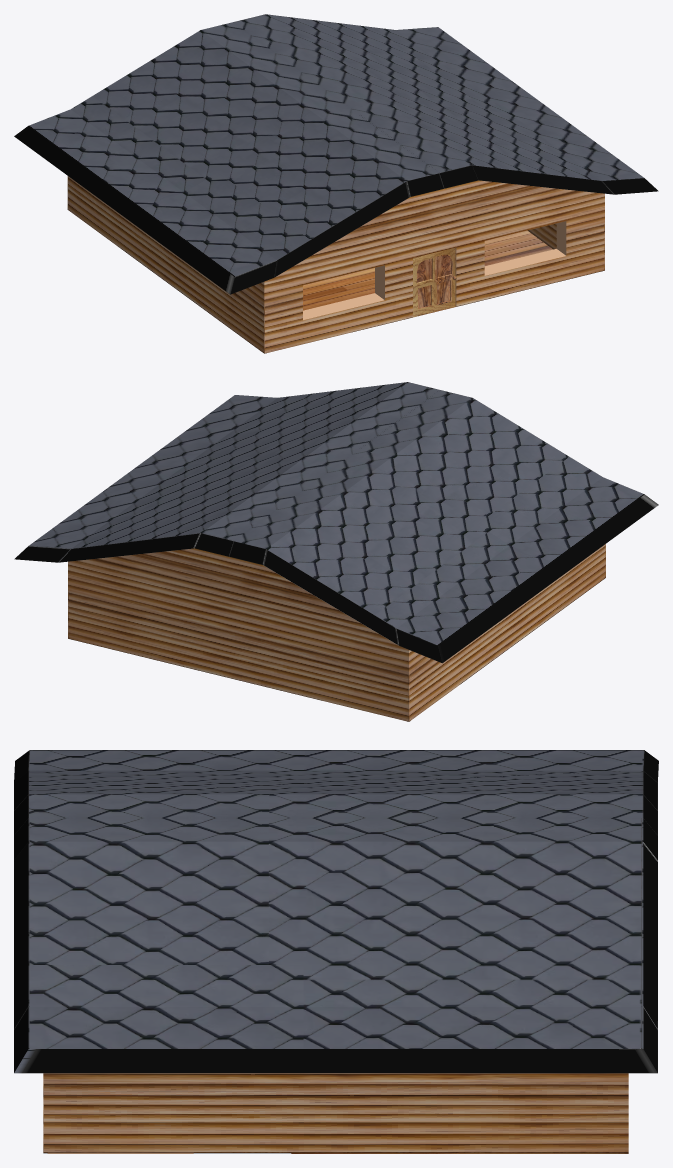
File: lodge.fbx
3 renders of one model, top to bottom at view 1: azimuth 30°, elevation 25°; view 2: azimuth 150°, elevation 25°; view 3: azimuth 270°, elevation 25°, orthographic. The views are drawn at different scales.
Parts seen in each view (by area): view 1: Lodge, Doorknob; view 2: Lodge; view 3: Lodge.
Part boxes in pixels (x1,y1,x2,y2): Lodge: (14,14,658,353); Doorknob: (413,247,456,317); Lodge: (14,382,658,721); Lodge: (14,750,658,1153).
Size of the model in its own units: 1887 by 600 by 1653.
